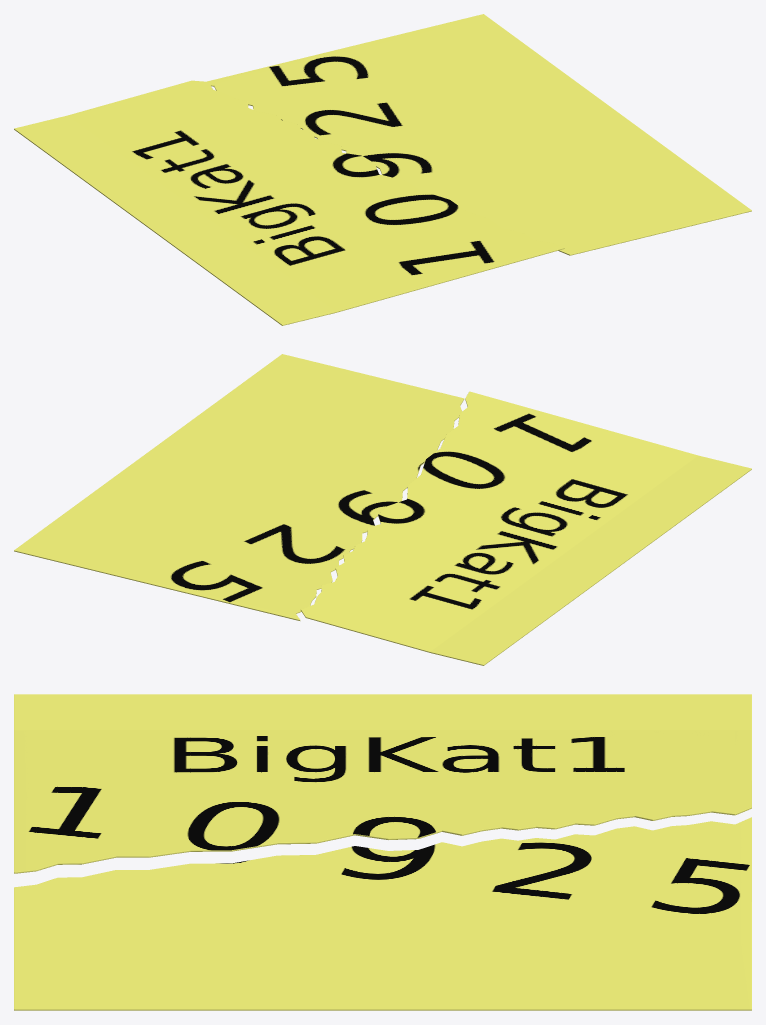
The model's file is stickynote_mesh.fbx.
The picture shows the model from 3 angles, top to bottom: view 1: azimuth 30°, elevation 25°; view 2: azimuth 150°, elevation 25°; view 3: azimuth 270°, elevation 25°; orthographic projection. The views are drawn at different scales.
Parts seen in each view (by area): view 1: pCube150, pCube151; view 2: pCube151, pCube150; view 3: pCube151, pCube150.
Part boxes in pixels (x1,y1,x2,y2): pCube150: (14, 80, 564, 325); pCube151: (207, 14, 751, 255); pCube151: (14, 354, 464, 620); pCube150: (300, 391, 751, 665); pCube151: (14, 817, 751, 1010); pCube150: (14, 694, 751, 873).
Size of the model in its own units: 2.47 by 0.0469 by 2.44.
1 material, 1 textured.
